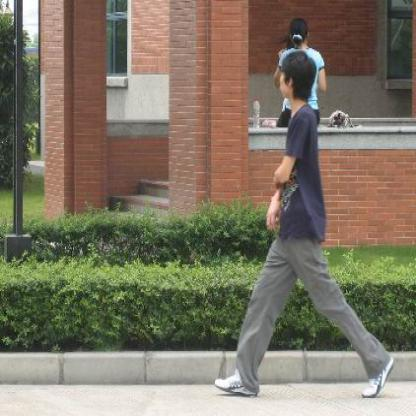person: (215, 51, 396, 402)
